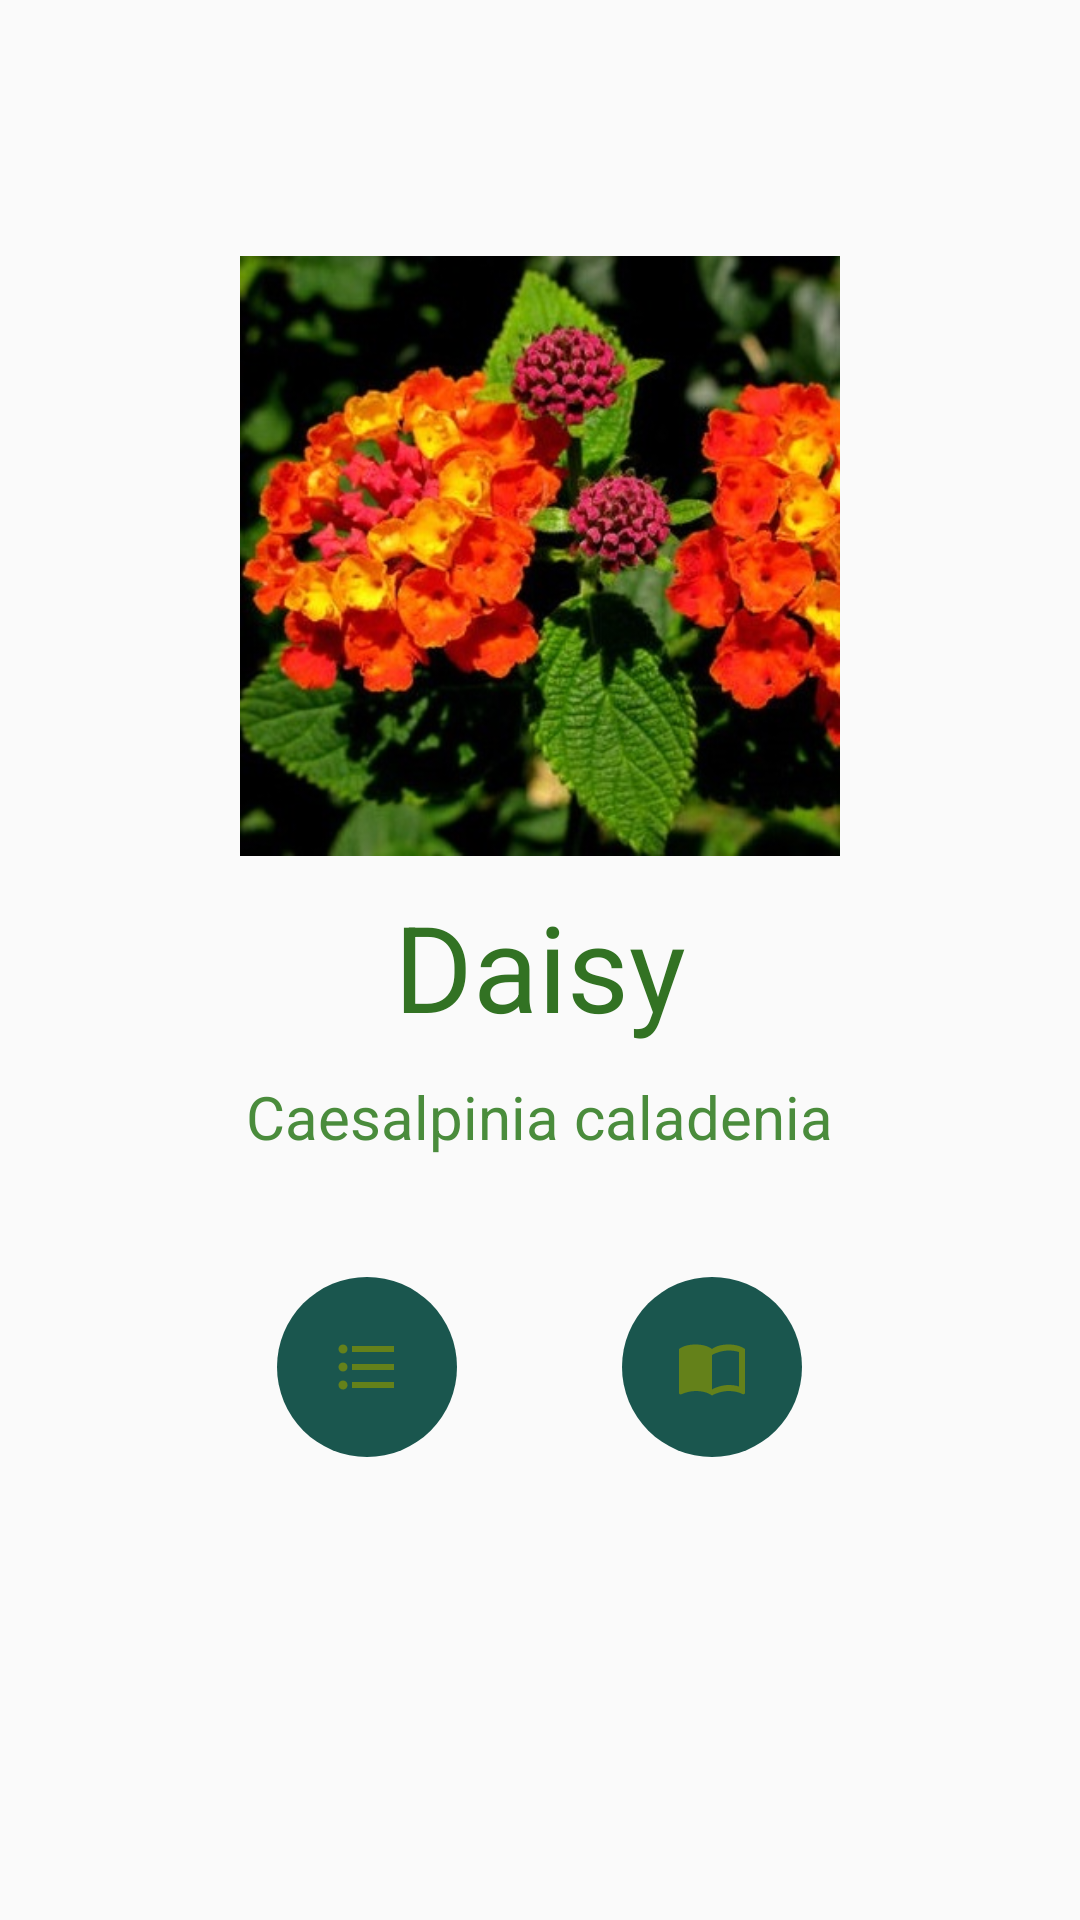

Where icons sit on this 1080 x 1920 app screen, as region(x1, y1, x2, y2):
informacion: region(622, 1277, 802, 1457)
